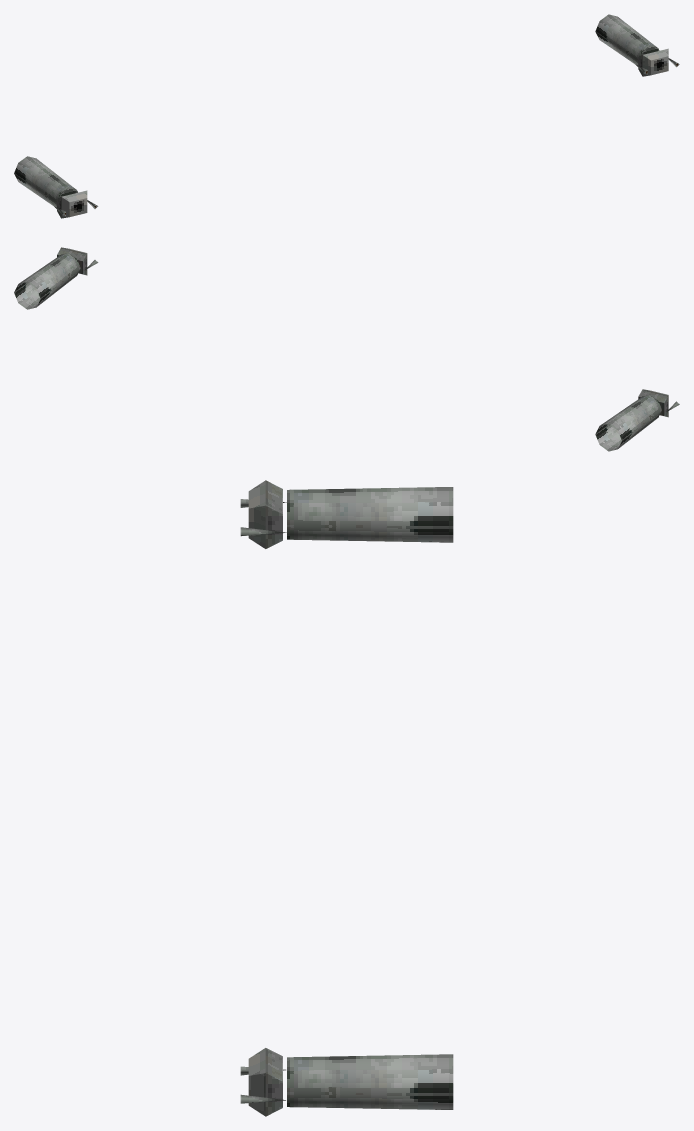
File: black_sun_fighter_light_weapon_s03_l2.fbx
The picture shows the model from 3 angles, top to bottom: view 1: azimuth 30°, elevation 25°; view 2: azimuth 150°, elevation 25°; view 3: azimuth 270°, elevation 25°; orthographic projection. The views are drawn at different scales.
Parts seen in each view (by area): view 1: mesh_node; view 2: mesh_node; view 3: mesh_node.
Boxes of the visible parts, left/top/right/bottom form: mesh_node: left=14, top=14, right=679, bottom=218; mesh_node: left=14, top=247, right=679, bottom=451; mesh_node: left=240, top=480, right=453, bottom=1116.
Size of the model in its own units: 11.69 by 0.505 by 1.75.
